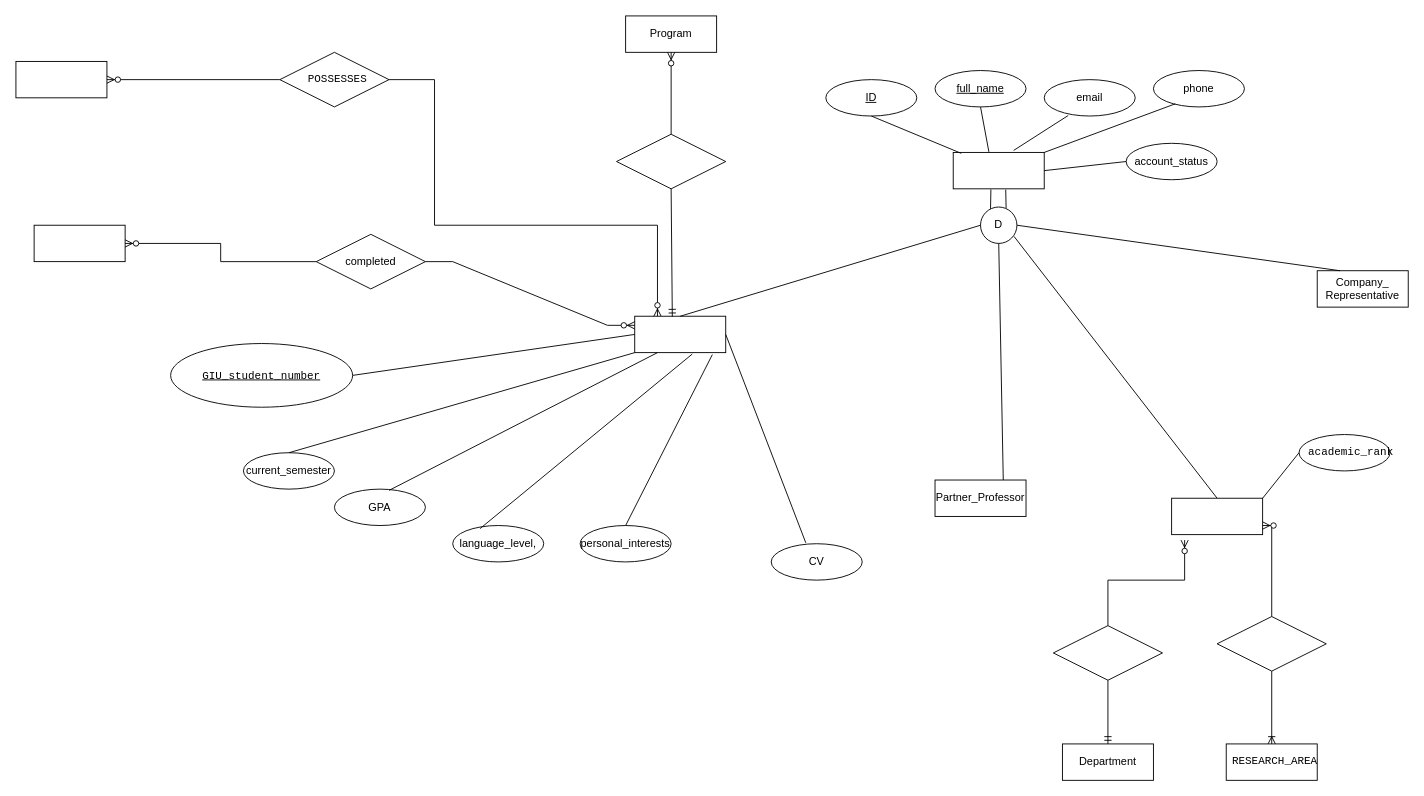
Some shapes in this 1424 by 796 pixel diagram are drawn without their labels. Here are the shapes that lost their labels. From the top down, the centre of each, then its label:
point (61, 79): Skill
point (671, 161): Enrolls in
point (998, 170): Person
point (79, 243): Course
point (680, 334): Student
point (1217, 516): Giu_Academic
point (1107, 652): BELONGS_TO
point (1271, 643): INTERESTED_IN
